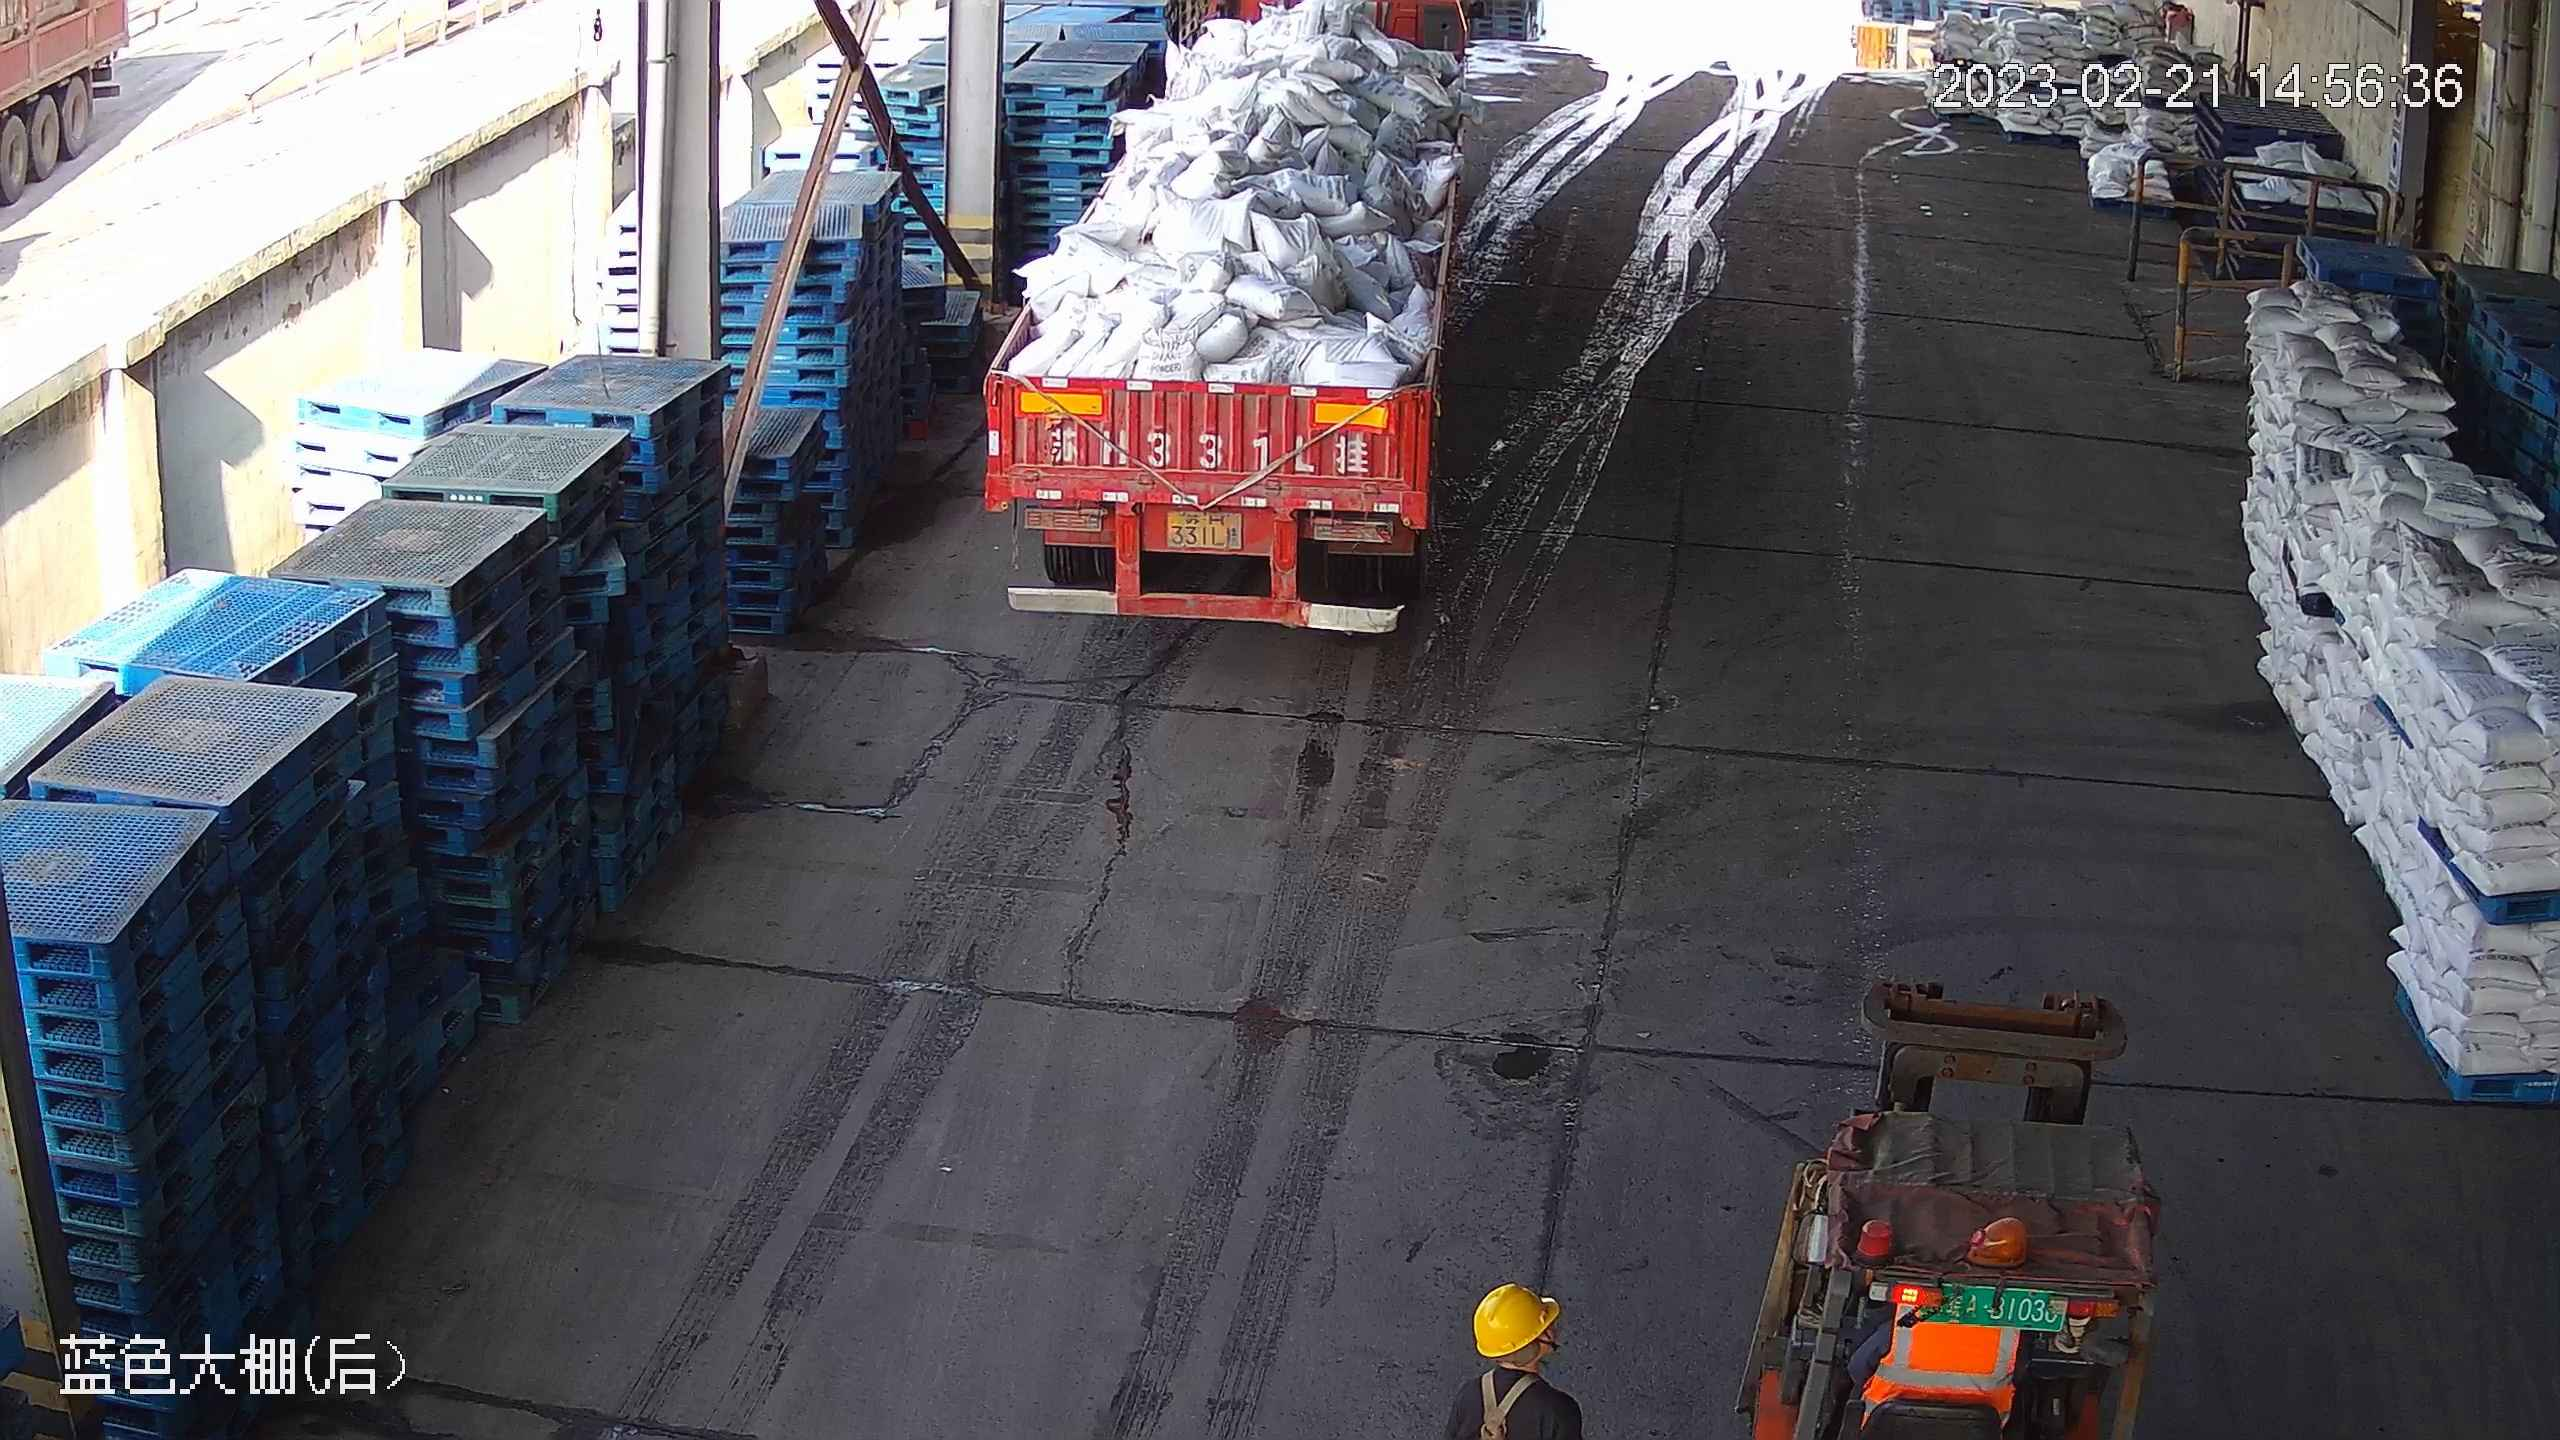head: (1436, 1275, 1595, 1440)
helmet: (1468, 1280, 1561, 1359)
truck: (979, 1, 1476, 637)
